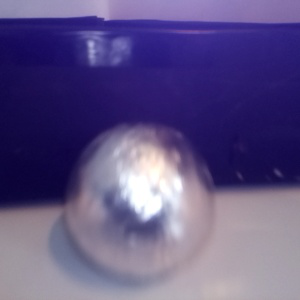zone: (1, 16, 300, 209)
